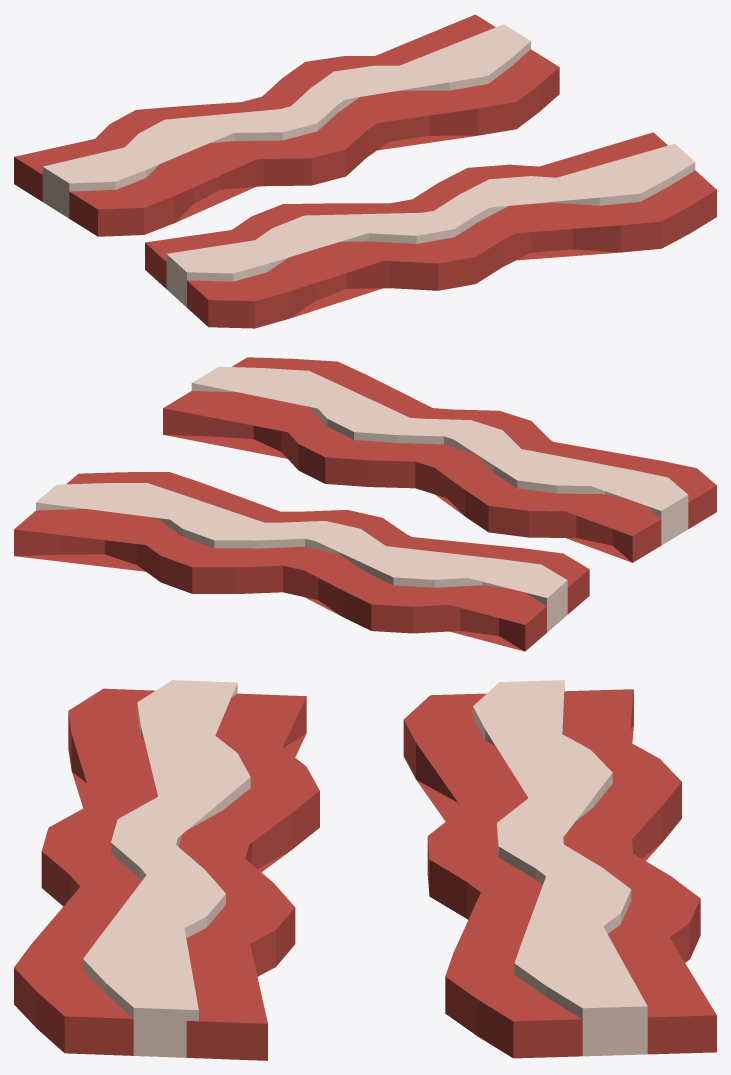
File: Food_Bacon.obj
3 renders of one model, top to bottom at view 1: azimuth 30°, elevation 25°; view 2: azimuth 150°, elevation 25°; view 3: azimuth 270°, elevation 25°, orthographic. The views are drawn at different scales.
Bounding box in the file's own units: 1.94 × 0.13 × 1.72.
